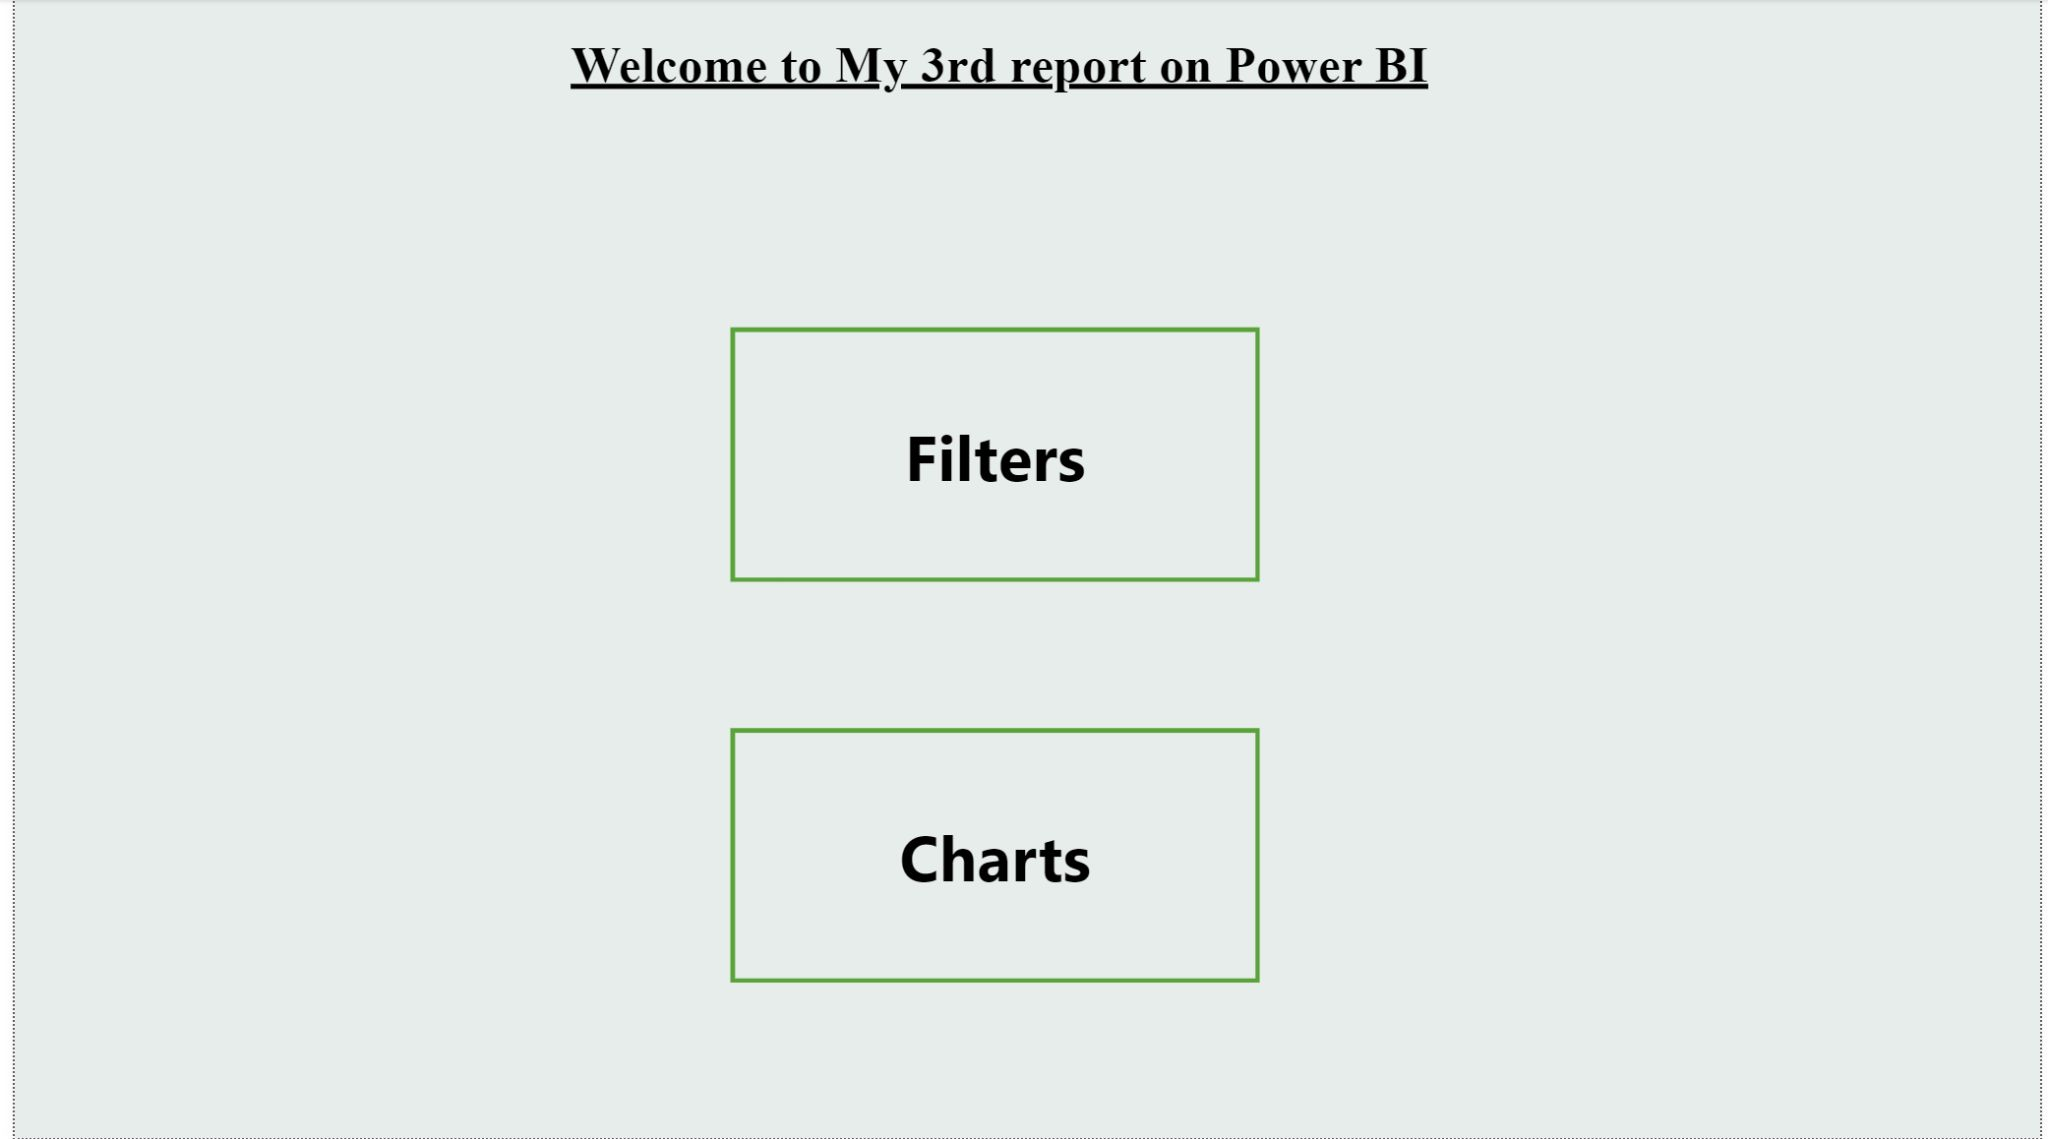

This screenshot's page, from the dashboard's own definition file:
{"tool":"powerbi","page":{"name":"Main","canvas":[1280,720],"ordinal":0},"visuals":[{"type":"textbox","box":[0,0,1244.3,119.6],"z":0},{"type":"actionButton","box":[451.9,461,334.7,161.1],"z":8000},{"type":"actionButton","box":[451.9,207.7,334.7,161.1],"z":9000}]}

Visuals, with their boxes in screenshot pixels (x1, y1, x2, y2), scaled from the page's 1280x720 canvas onto the 2048x1139 screenshot:
textbox: rect(0, 0, 1991, 189)
actionButton: rect(723, 729, 1259, 984)
actionButton: rect(723, 329, 1259, 583)
